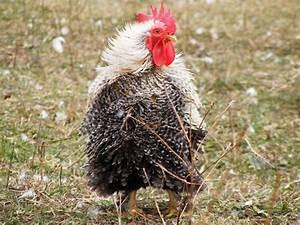hen: (78, 0, 208, 224)
